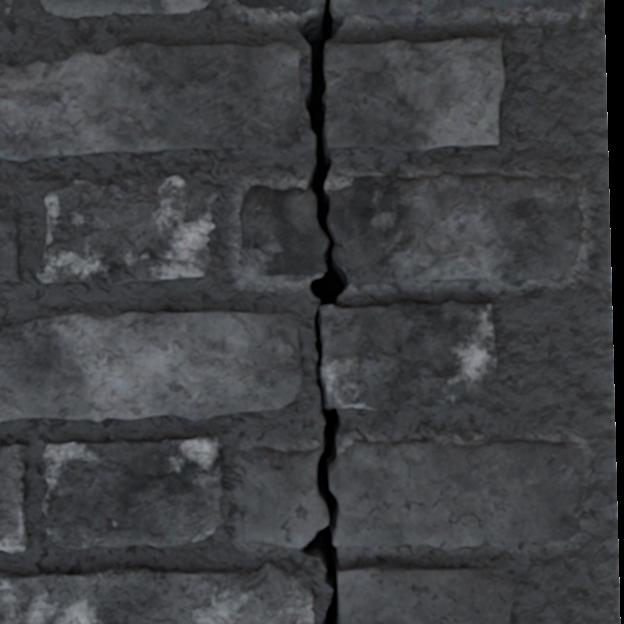brick: (0, 42, 299, 160), (0, 310, 302, 420), (42, 435, 223, 548), (325, 37, 503, 151), (38, 176, 216, 284), (320, 300, 495, 409), (0, 563, 313, 623), (339, 564, 513, 623), (0, 444, 27, 552), (41, 0, 209, 17), (0, 182, 20, 280), (0, 0, 10, 13)
broken_brick: (328, 173, 584, 284), (331, 438, 585, 549), (243, 445, 327, 548), (239, 184, 326, 277), (332, 0, 583, 17), (236, 0, 320, 12)
crack: (297, 0, 349, 623), (602, 0, 623, 623), (0, 588, 10, 592), (0, 70, 5, 76), (247, 505, 251, 510)
